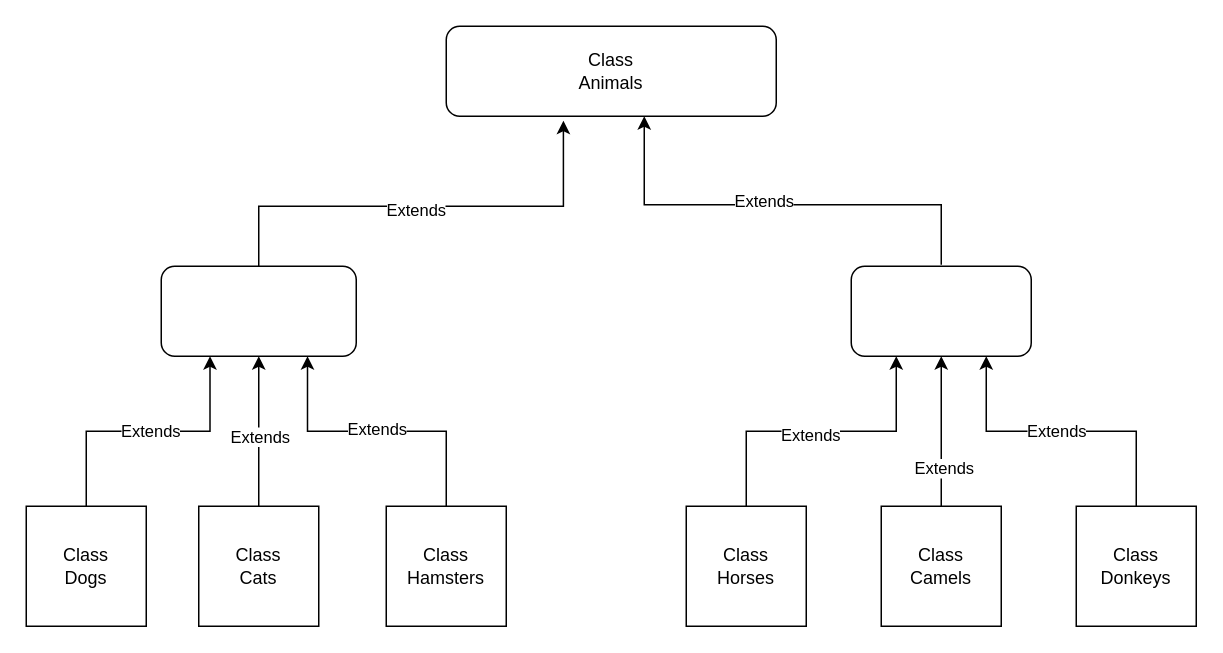
Image size: 1223x653. Some labels were removed from this diagram. The shapes that lost their labels are listed below. From the top down, each one's centre as x and y in pixels, then its label:
point 258,310: Class Pets
point 940,310: Class Pack_Animals
